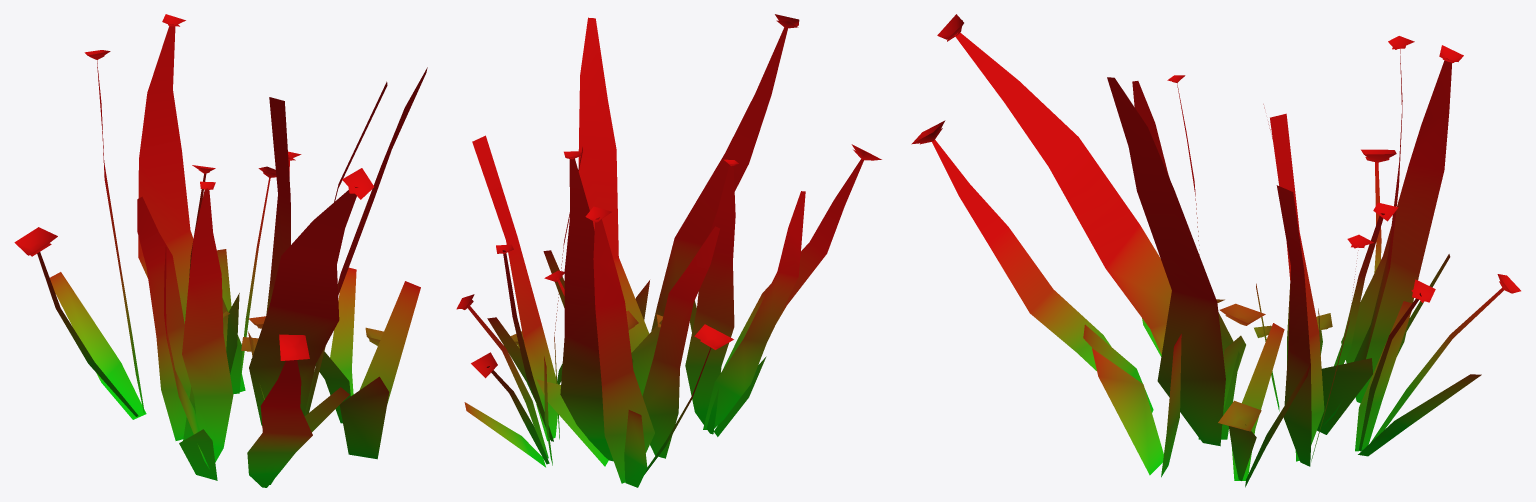
The model's file is White Everlasting_LOD4_Var5_ucvobbbia.fbx.
3 views of the same model, side by side, from view 1: azimuth 30°, elevation 25°; view 2: azimuth 150°, elevation 25°; view 3: azimuth 270°, elevation 25° (orthographic). The views are drawn at different scales.
Parts seen in each view (by area): view 1: _b9ba_Var5_LOD4; view 2: _b9ba_Var5_LOD4; view 3: _b9ba_Var5_LOD4.
Part boxes in pixels (left/top/right/bottom): _b9ba_Var5_LOD4: left=14, top=14, right=427, bottom=487; _b9ba_Var5_LOD4: left=456, top=14, right=881, bottom=487; _b9ba_Var5_LOD4: left=911, top=14, right=1520, bottom=487.
Bounding box in the file's own units: 33.88 × 39.71 × 52.42.
